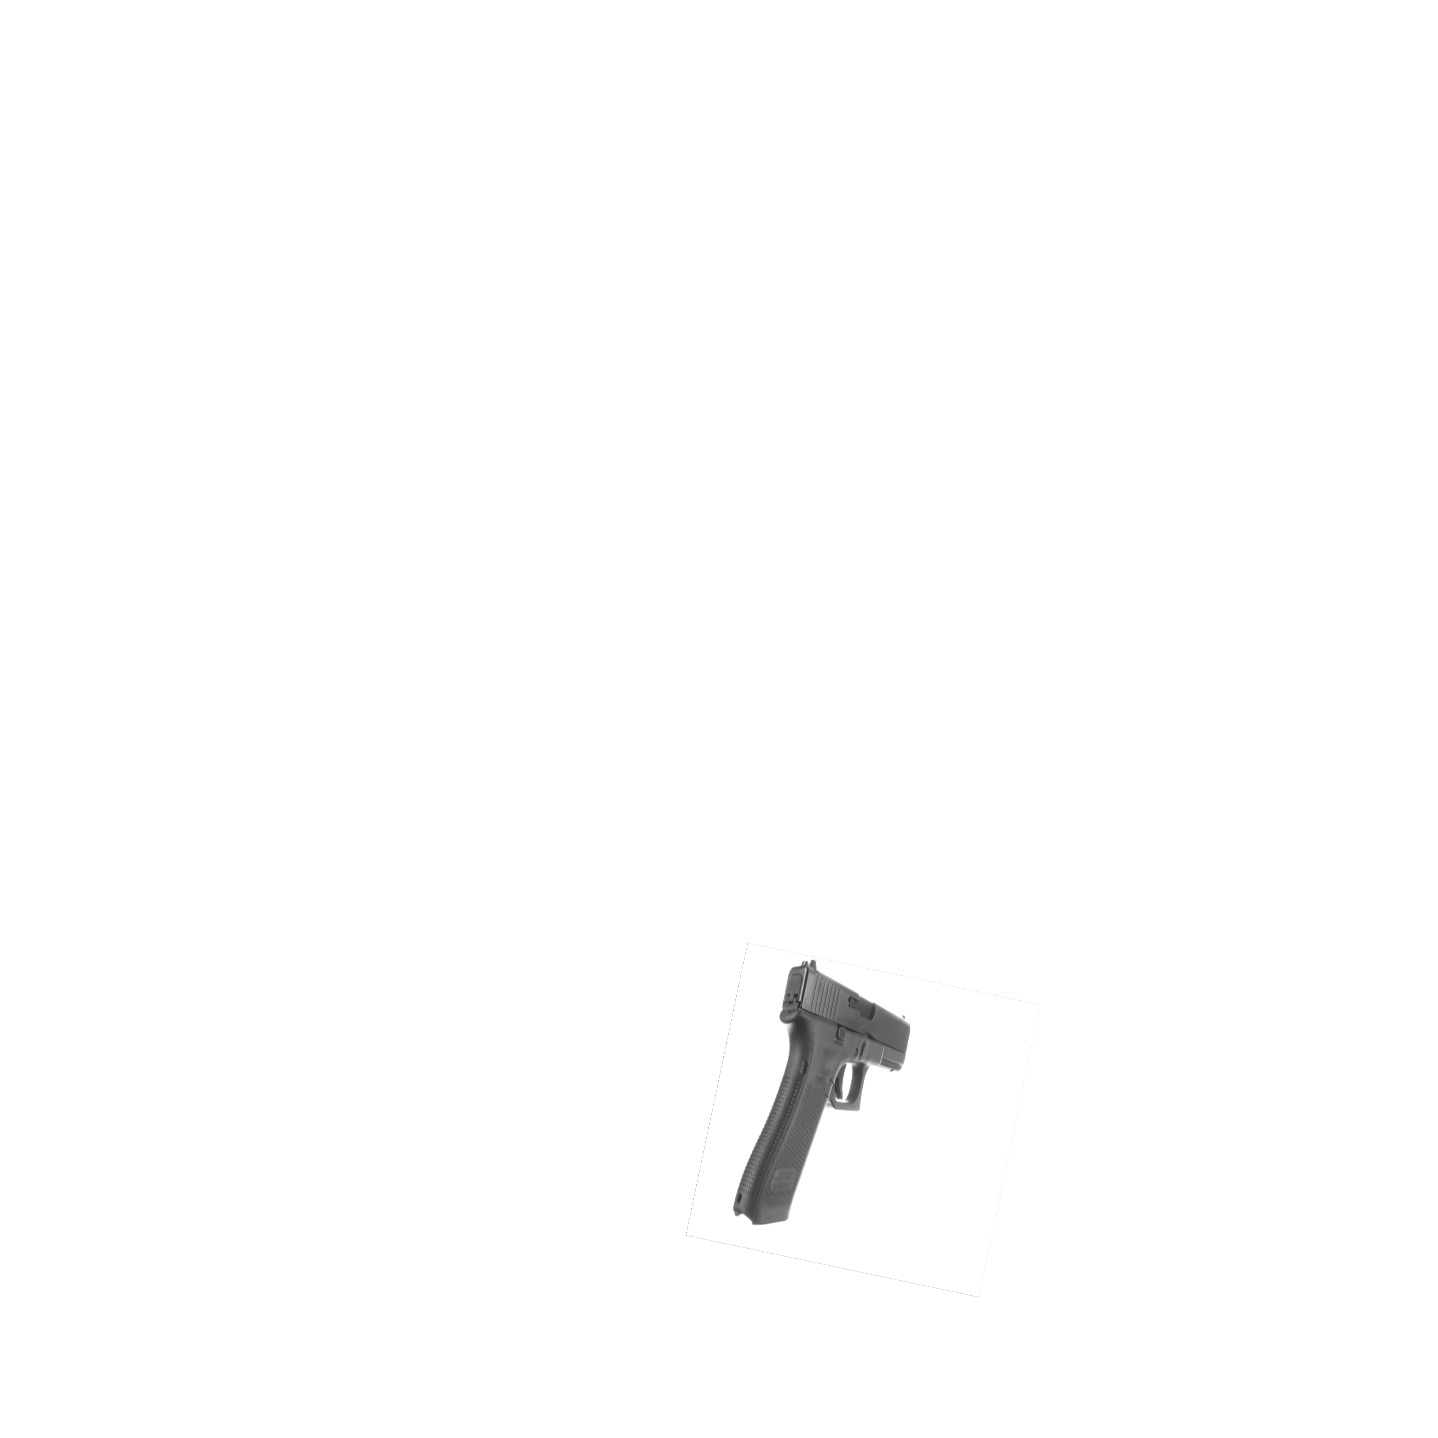gun: (733, 957, 910, 1225)
